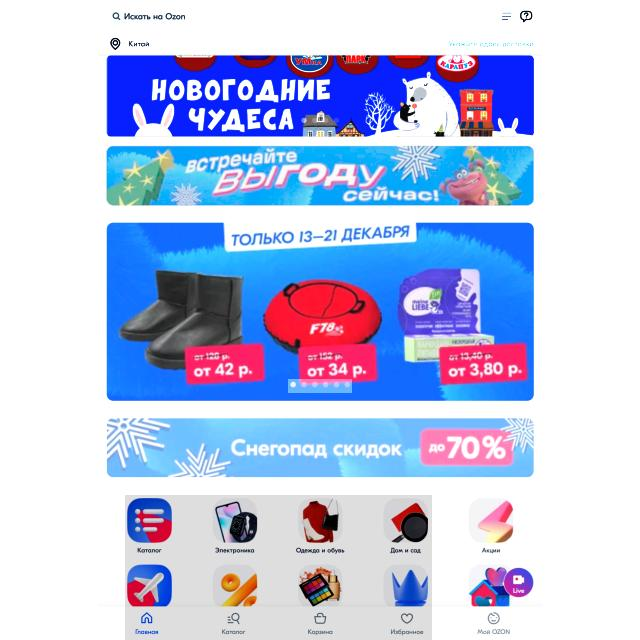CheckBox: (447, 39, 535, 50)
CheckedTextView: (106, 6, 491, 26)
ImageView: (108, 56, 535, 136), (106, 415, 536, 479), (107, 145, 534, 205)
Switch: (106, 222, 536, 402)
bag: (0, 0, 640, 54)
carousel: (108, 35, 122, 53), (519, 10, 534, 24), (110, 9, 122, 24)
decoration: (125, 495, 432, 640), (498, 10, 514, 23)
dropdown: (288, 379, 352, 393)
footer: (124, 10, 184, 23), (127, 40, 153, 49)
